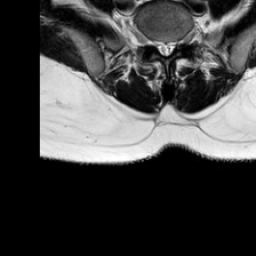CCS_stenosis: (161, 30, 169, 64)
LFS_stenosis: (176, 28, 184, 53)
LLS_normal: (169, 31, 176, 59)
RFS_stenosis: (146, 29, 153, 53)
RLS_normal: (153, 32, 161, 59)
